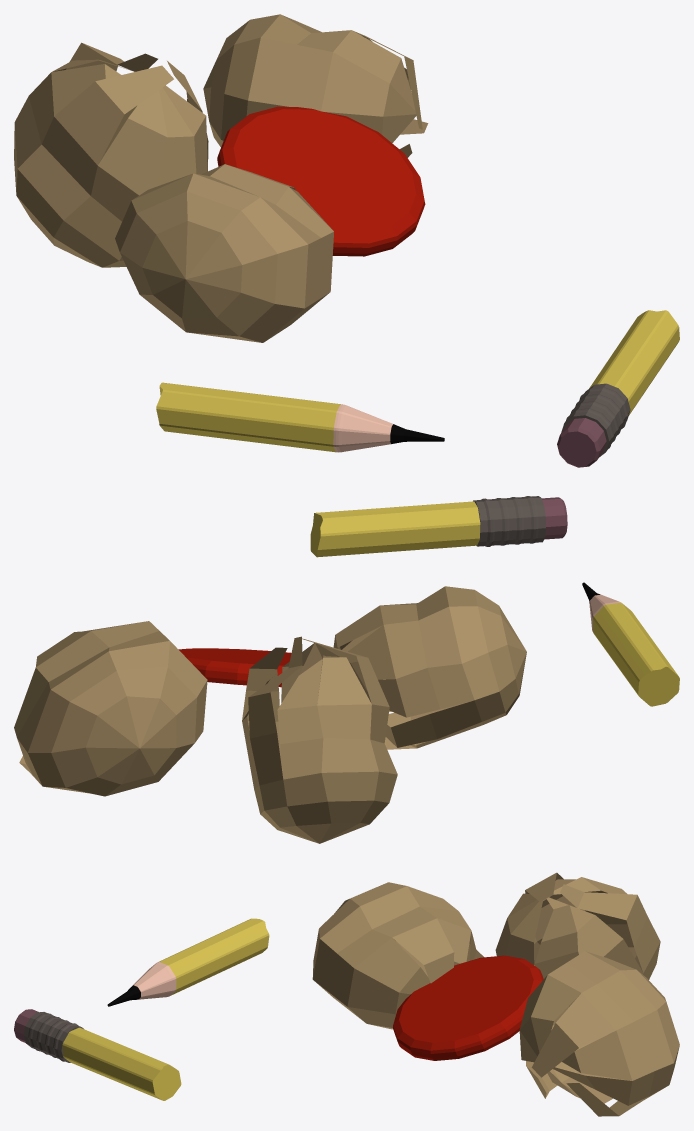
File: mysor.fbx
3 renders of one model, top to bottom at view 1: azimuth 30°, elevation 25°; view 2: azimuth 150°, elevation 25°; view 3: azimuth 270°, elevation 25°, orthographic. The views are drawn at different scales.
Parts seen in each view (by area): view 1: mysor; view 2: mysor; view 3: mysor.
Part boxes in pixels (box(x1,y1,x2,y2)): mysor: box(14, 14, 679, 467); mysor: box(14, 496, 679, 843); mysor: box(14, 872, 679, 1116).
Size of the model in its own units: 7.2 by 2.87 by 11.48.
